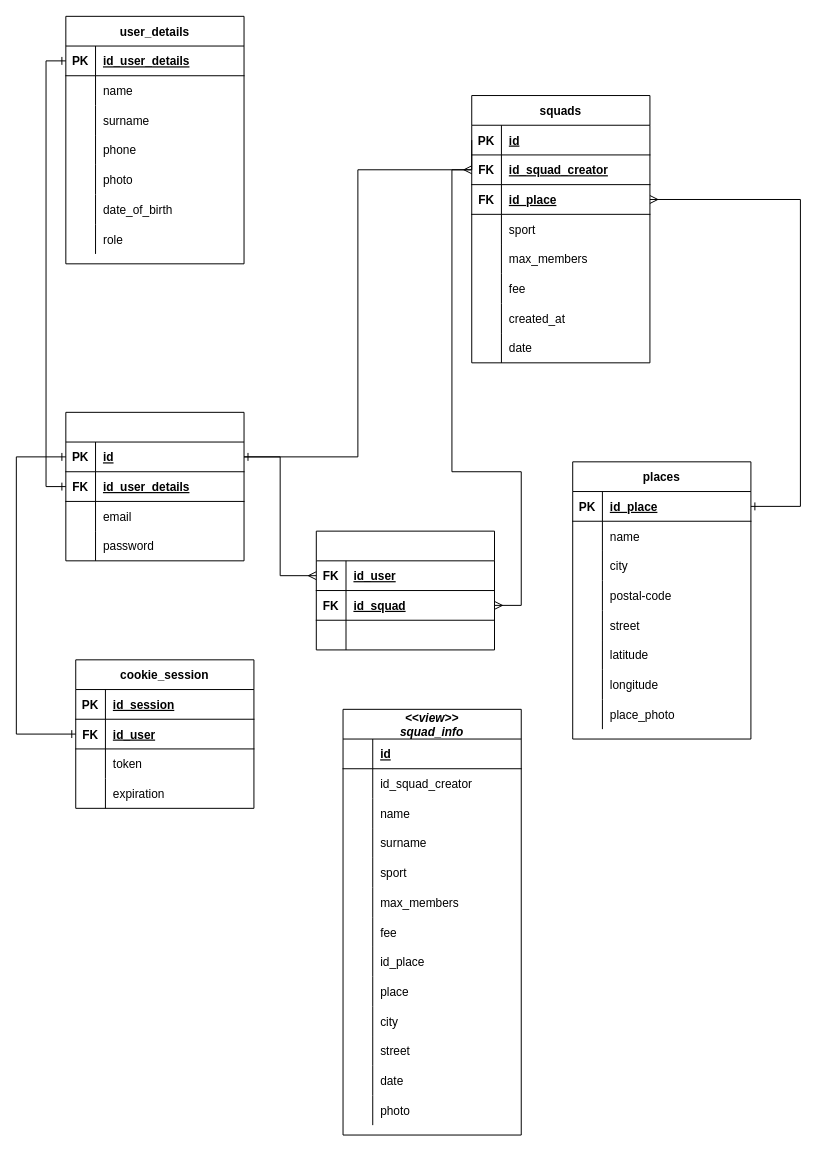
Some shapes in this 817 by 1151 pixel diagram are drawn without their labels. Each missing label, with the box of its shape:
users: (65, 411, 244, 561)
users_squads: (315, 530, 495, 650)
